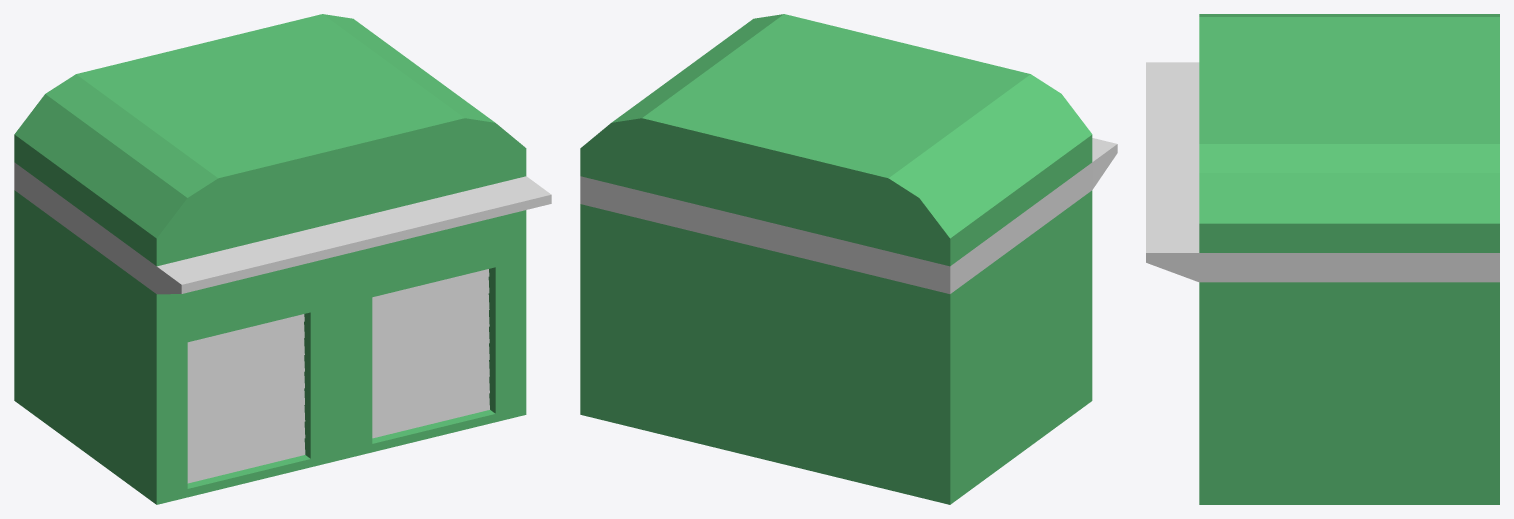
File: Store_Close_green.fbx
3 renders of one model, left to right at view 1: azimuth 30°, elevation 25°; view 2: azimuth 150°, elevation 25°; view 3: azimuth 270°, elevation 25°, orthographic. The views are drawn at different scales.
Parts seen in each view (by area): view 1: StoreCloseDoor.004; view 2: StoreCloseDoor.004; view 3: StoreCloseDoor.004.
Part boxes in pixels (bbox=[...]): StoreCloseDoor.004: bbox=[14, 14, 551, 504]; StoreCloseDoor.004: bbox=[580, 14, 1117, 504]; StoreCloseDoor.004: bbox=[1146, 14, 1499, 504].
Size of the model in its own units: 300 by 242 by 235.
